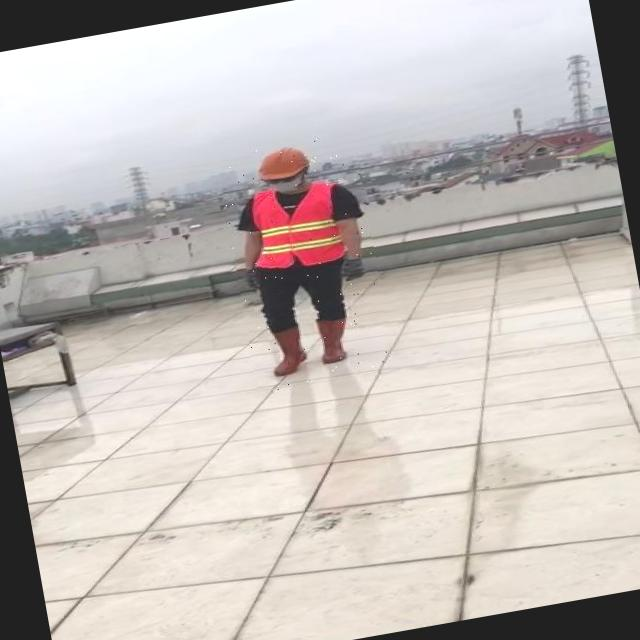boots: (264, 323, 311, 378), (309, 314, 356, 367)
gloves: (335, 250, 366, 284), (243, 263, 267, 292)
helmet: (250, 140, 320, 187)
vest: (240, 181, 350, 275)
